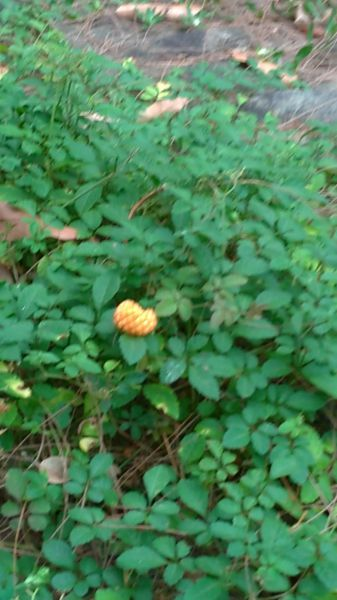eggs: (107, 297, 161, 340)
